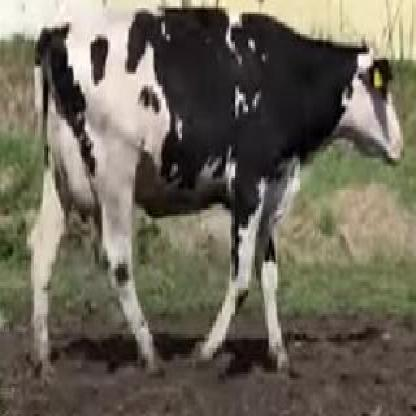cow: (27, 7, 405, 375)
